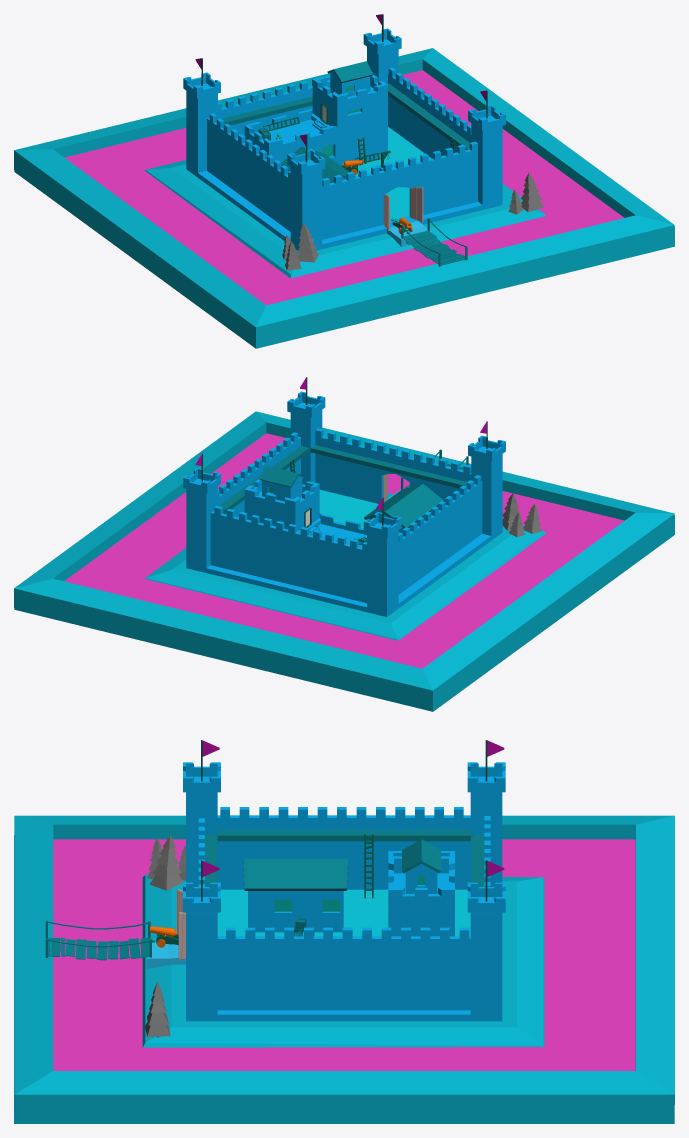
Rendered from Castle.fbx.
3 renders of one model, top to bottom at view 1: azimuth 30°, elevation 25°; view 2: azimuth 150°, elevation 25°; view 3: azimuth 270°, elevation 25°, orthographic. The views are drawn at different scales.
Parts seen in each view (by area): view 1: Castle, trees, Bridge; view 2: Castle, trees; view 3: Castle, Bridge, trees.
Part boxes in pixels (x1,y1,x2,y2): Castle: (14, 14, 674, 348); trees: (282, 172, 543, 270); Bridge: (387, 218, 467, 266); Castle: (14, 377, 674, 711); trees: (502, 493, 542, 537); Castle: (14, 740, 674, 1123); Bridge: (45, 920, 185, 968); trees: (145, 835, 185, 1037).
Bounding box in the file's own units: 4176 × 1283 × 4180.
